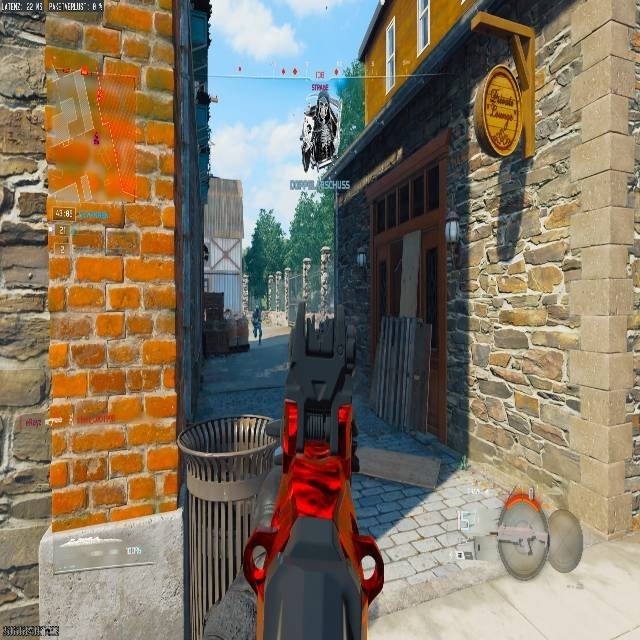player: (302, 85, 341, 173), (251, 305, 263, 342)
